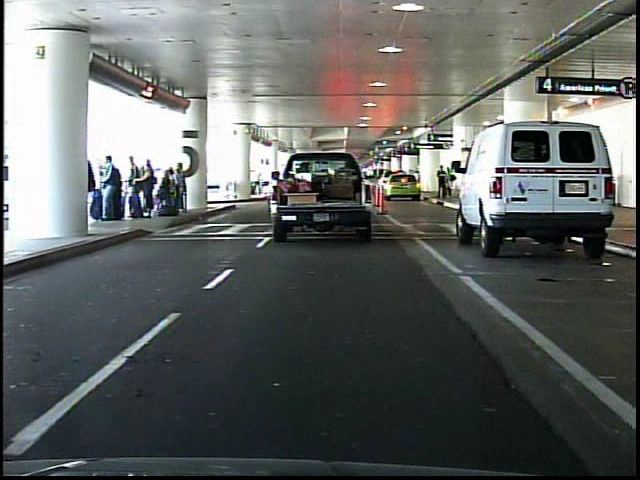person: (436, 164, 449, 201), (446, 165, 457, 203)
